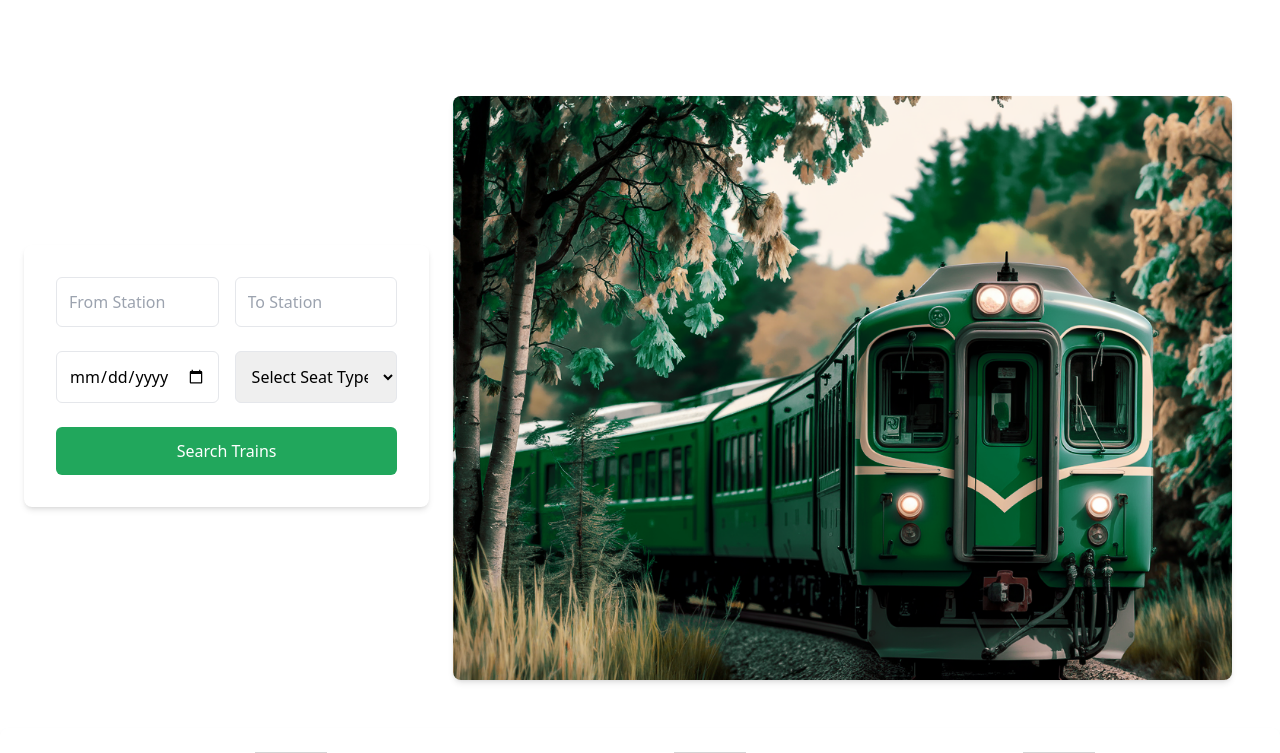
Test: Home Component › displays suggestions when typing in the from station field
Step 1. Type "Dhaka" into the field with placeholder "From Station" → {"x": 137, "y": 302}, box [56,277,219,327]
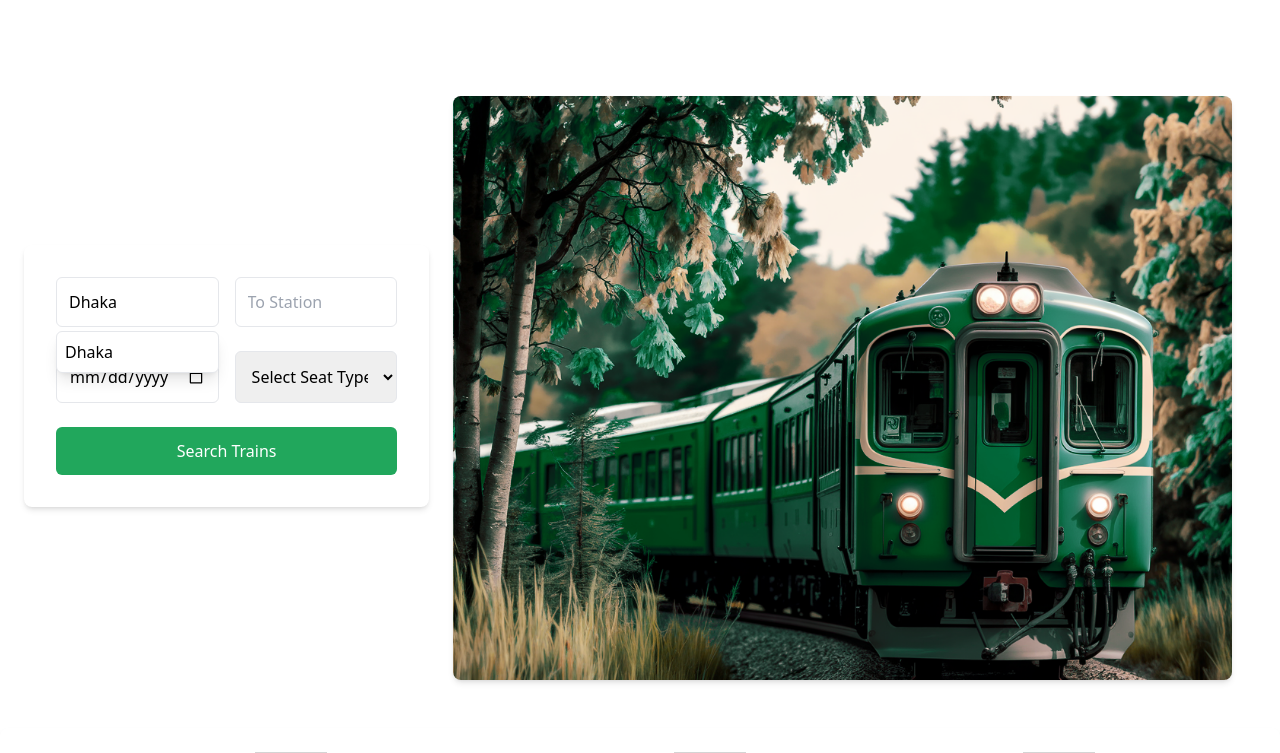
Expected: the text "Dhaka" is shown, [65,341,113,363]
